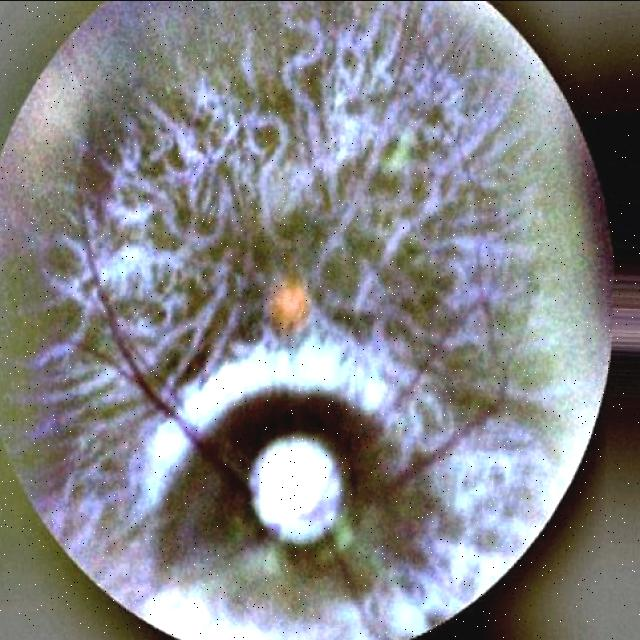Macula: (270, 275, 308, 329)
Nerves: (97, 279, 497, 566)
Optic Disk: (252, 432, 343, 543)
